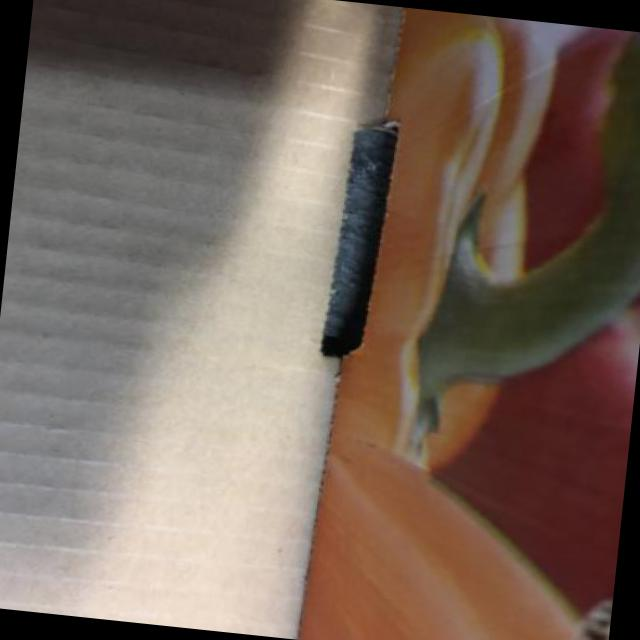cardboard: (0, 0, 396, 638), (301, 9, 639, 639)
